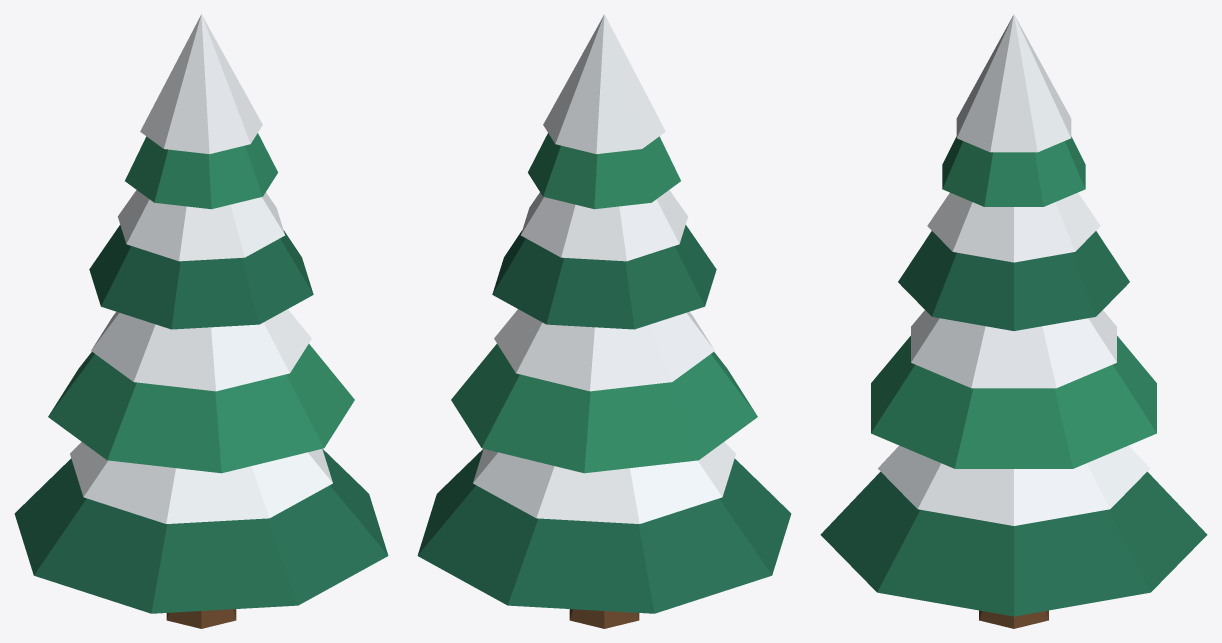
File: tree_snow.glb
3 renders of one model, left to right at view 1: azimuth 30°, elevation 25°; view 2: azimuth 150°, elevation 25°; view 3: azimuth 270°, elevation 25°, orthographic.
Visible parts, largest first — view 1: tree_snow; view 2: tree_snow; view 3: tree_snow.
Part boxes in pixels (x1,y1,x2,y2): tree_snow: [14, 14, 388, 628]; tree_snow: [417, 14, 791, 628]; tree_snow: [820, 14, 1207, 628].
Size of the model in its own units: 0.4988 by 0.85 by 0.4988.
